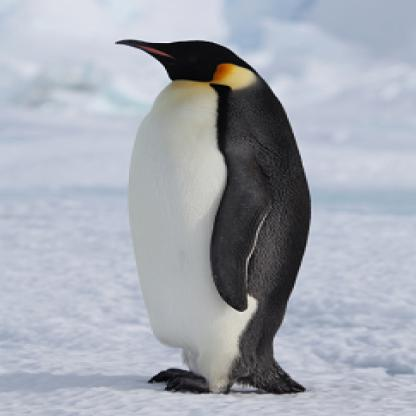Penguin: (102, 25, 341, 401)
